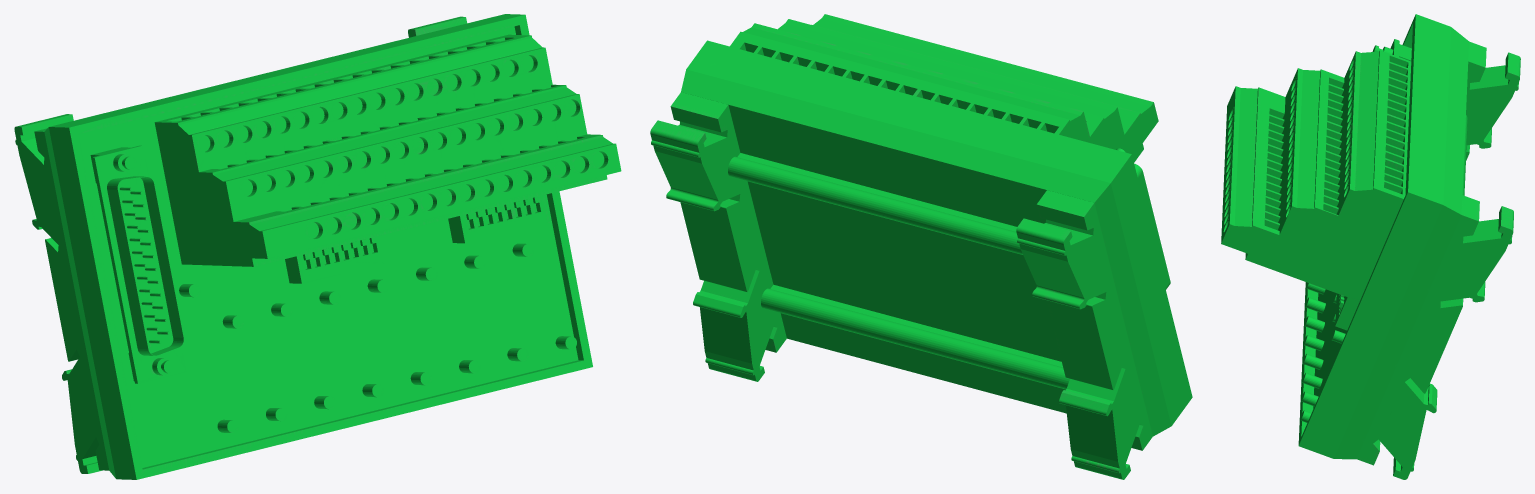
Rendered from Moduloeletronico.glb.
3 renders of one model, left to right at view 1: azimuth 30°, elevation 25°; view 2: azimuth 150°, elevation 25°; view 3: azimuth 270°, elevation 25°, orthographic. The views are drawn at different scales.
Parts seen in each view (by area): view 1: node_id3; view 2: node_id3; view 3: node_id3.
Boxes of the visible parts, <box> form: node_id3: <box>14,14,621,479</box>; node_id3: <box>650,14,1192,479</box>; node_id3: <box>1221,14,1520,479</box>.
Size of the model in its own units: 0.5148 by 0.3821 by 0.3537.
1 material, 1 textured.
